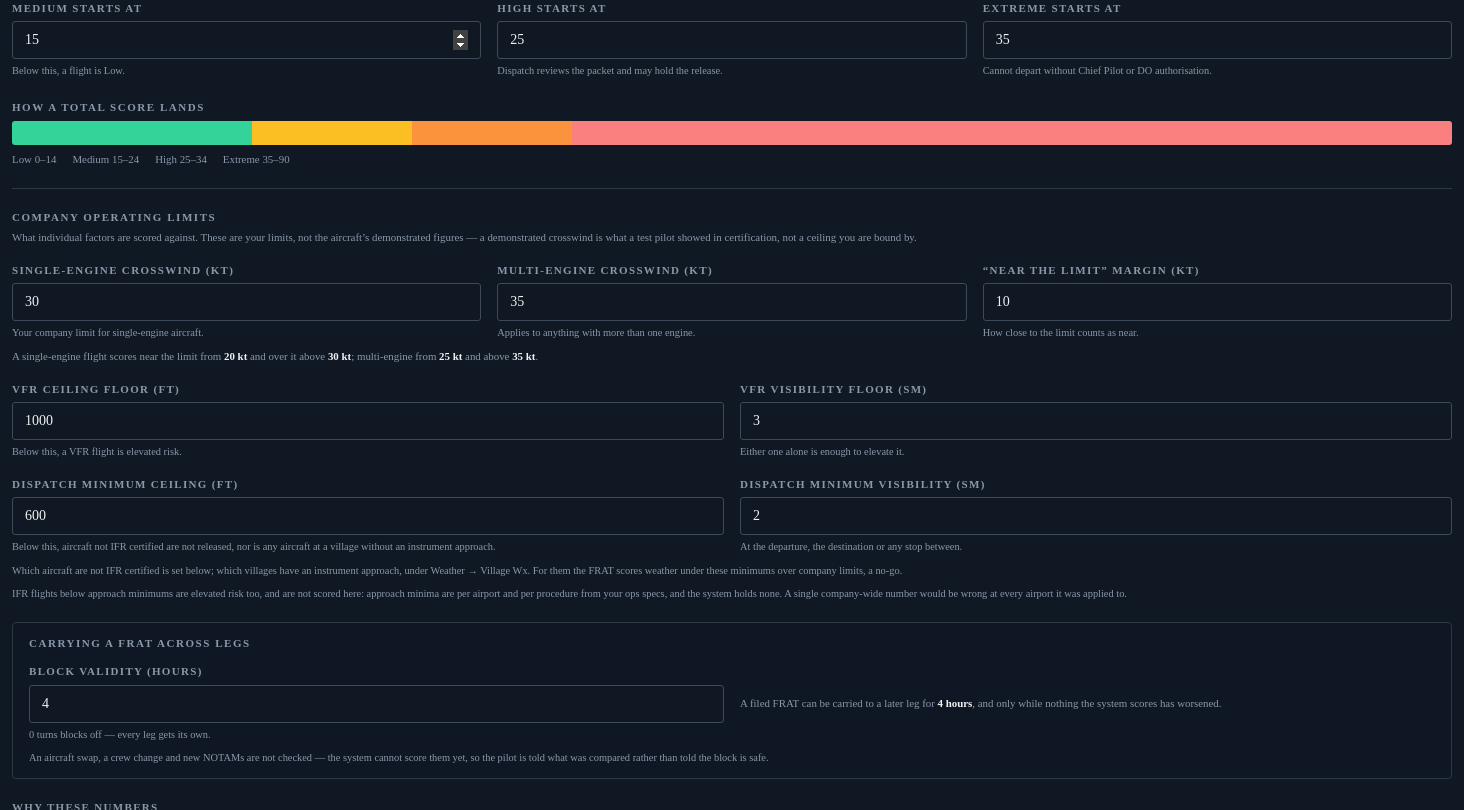
Test: saving › sends the whole policy, not only what was touched
The image size is (1464, 810).
Replace the text in the number field labelled "Extreme starts at" with "30" at [1217, 40], box [983,21,1452,59]
(page scrolled)
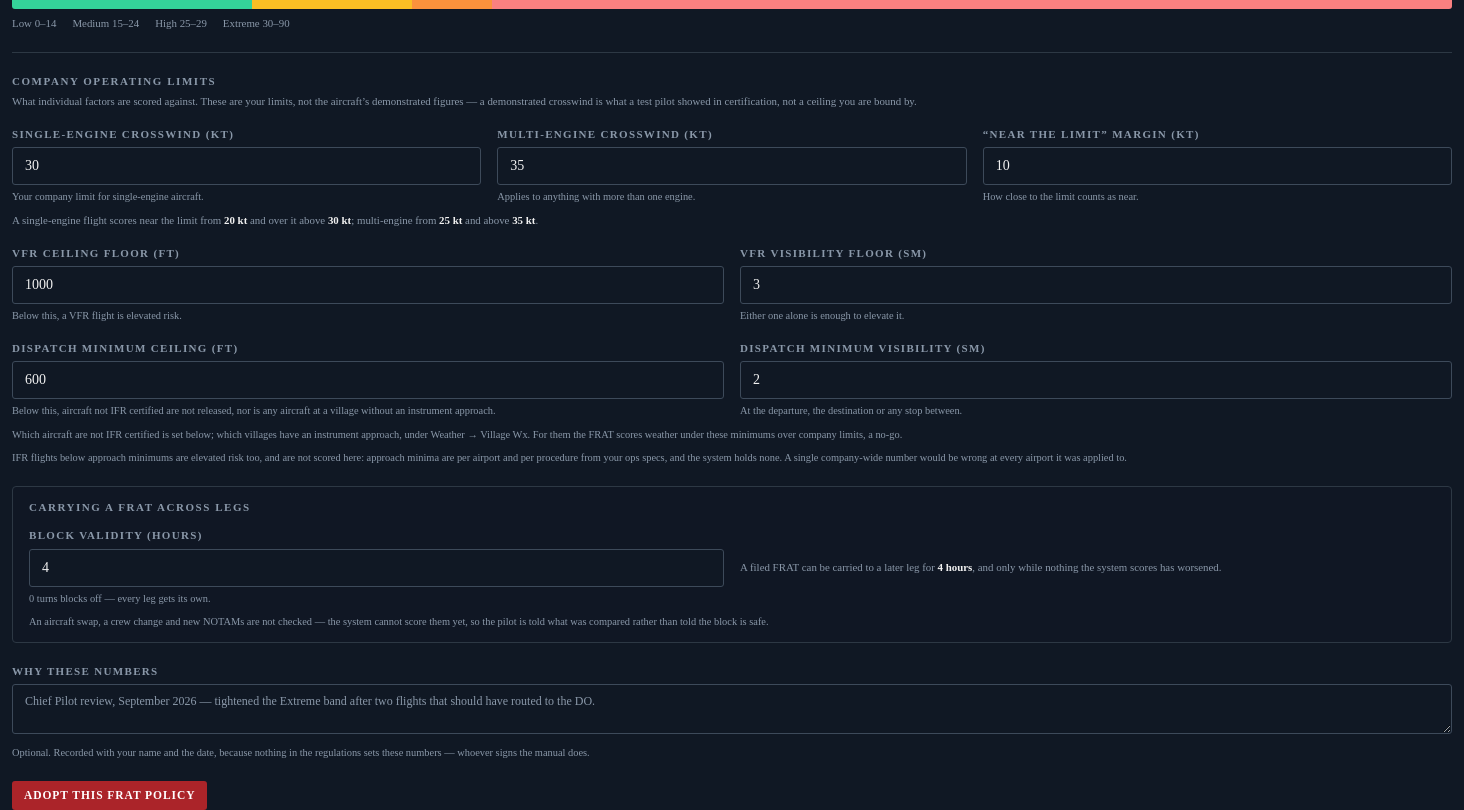
Type "Tightened after review." into the text box labelled "Why these numbers".
click(732, 709); type("Tightened after review.")  # box [12,684,1452,734]
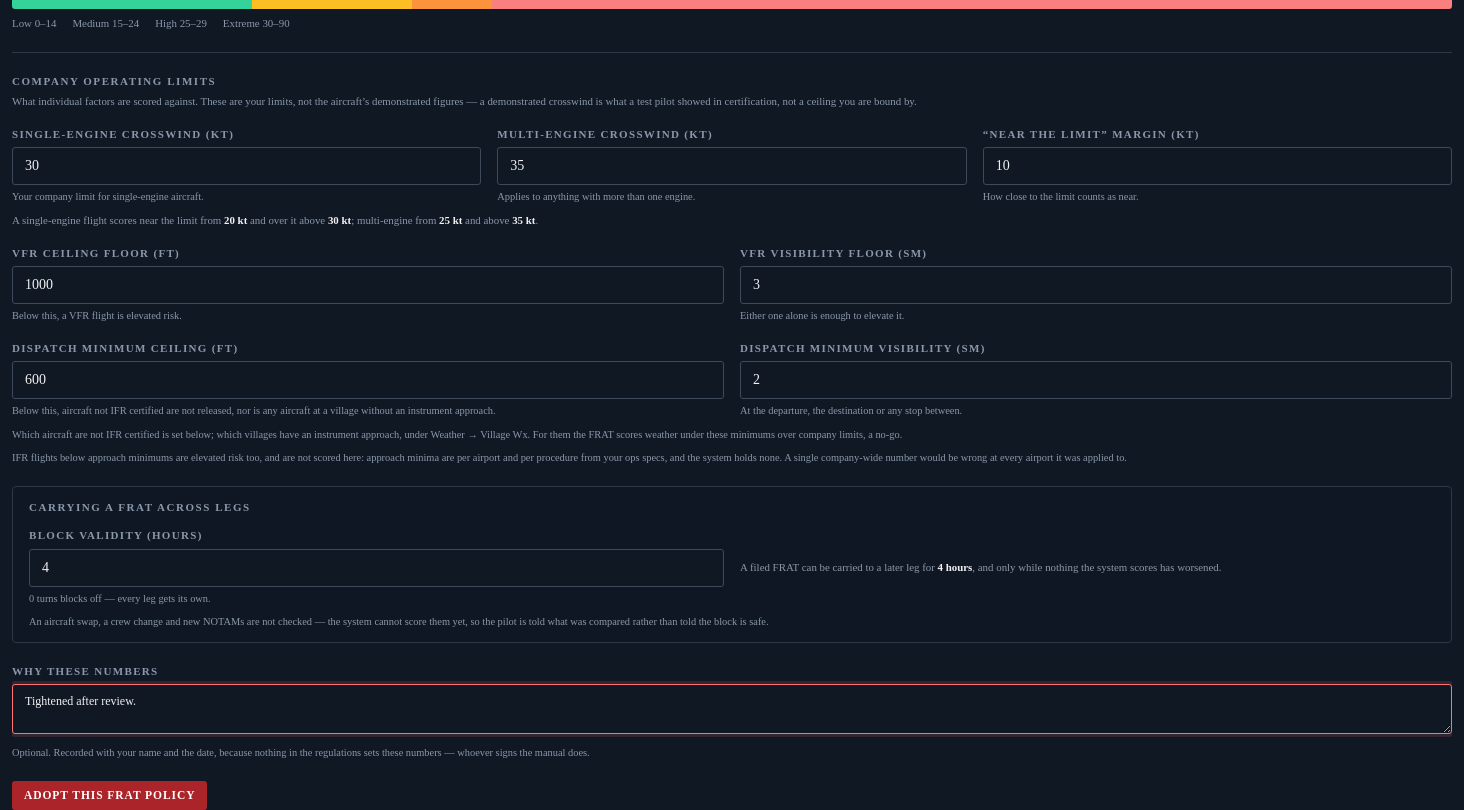
Click the button "Adopt this FRAT policy".
click(110, 795)  # box [12,781,207,809]
(page scrolled)
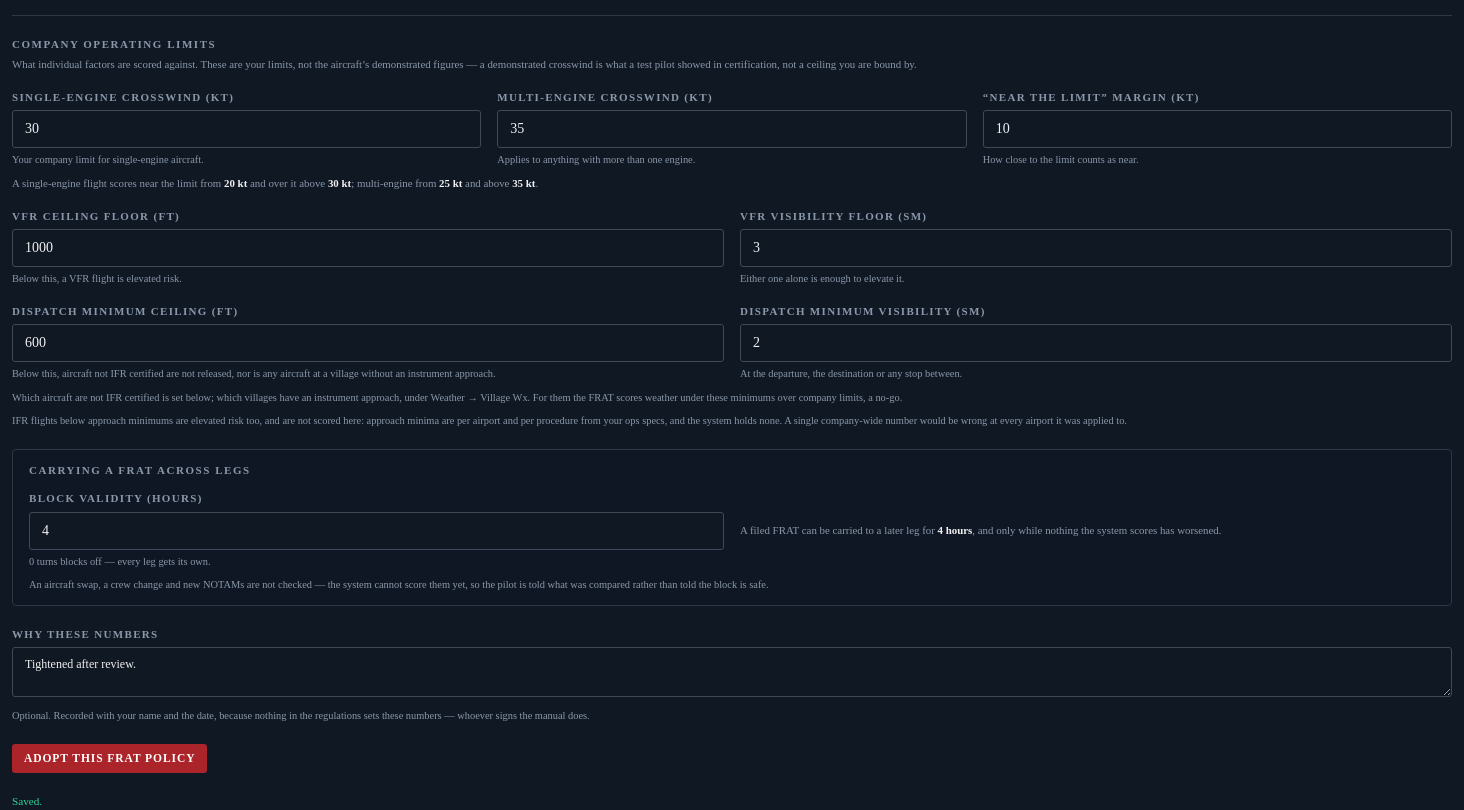
Result: the message shows "Saved" at [12,795,42,807]
